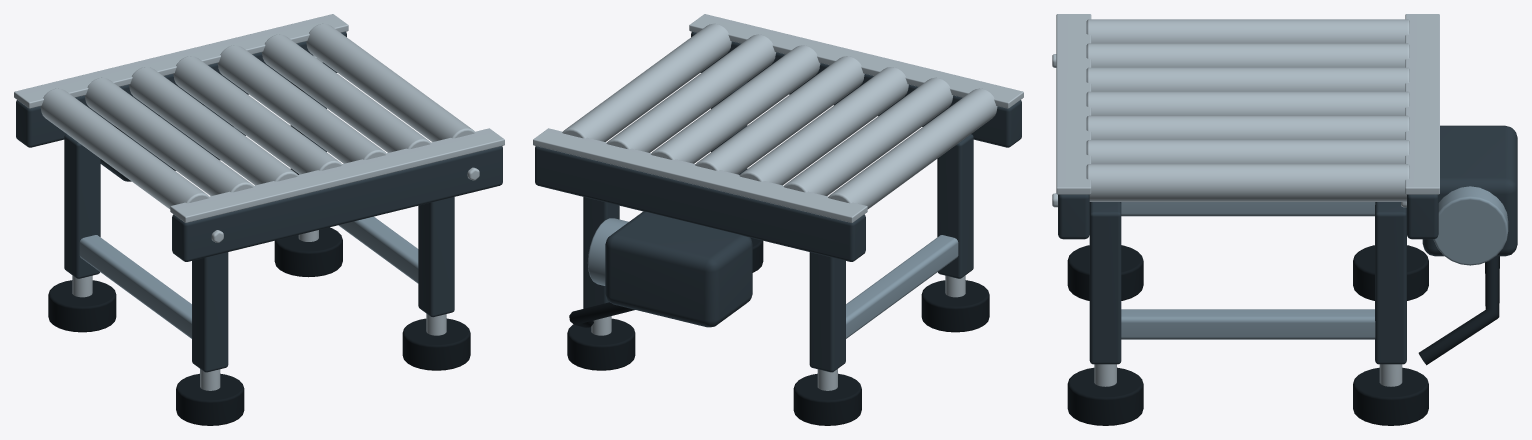
The model's file is roller-conveyor.glb.
The picture shows the model from 3 angles, left to right: view 1: azimuth 30°, elevation 25°; view 2: azimuth 150°, elevation 25°; view 3: azimuth 270°, elevation 25°; orthographic projection. The views are drawn at different scales.
Visible parts, largest first — view 1: roller_conveyor_Machined_Steel, roller_conveyor_Enamel_Graphite, roller_conveyor_Rubber_Seal, roller_conveyor_Brushed_Aluminium; view 2: roller_conveyor_Machined_Steel, roller_conveyor_Enamel_Graphite, roller_conveyor_Rubber_Seal, roller_conveyor_Brushed_Aluminium; view 3: roller_conveyor_Machined_Steel, roller_conveyor_Enamel_Graphite, roller_conveyor_Brushed_Aluminium, roller_conveyor_Rubber_Seal.
Part boxes in pixels (box(x1,y1,x2,y2)): roller_conveyor_Machined_Steel: box(14, 14, 504, 390); roller_conveyor_Enamel_Graphite: box(16, 31, 502, 372); roller_conveyor_Rubber_Seal: box(48, 227, 470, 425); roller_conveyor_Brushed_Aluminium: box(79, 127, 418, 338); roller_conveyor_Machined_Steel: box(533, 14, 1023, 390); roller_conveyor_Enamel_Graphite: box(535, 31, 1021, 372); roller_conveyor_Rubber_Seal: box(567, 237, 989, 425); roller_conveyor_Brushed_Aluminium: box(588, 218, 958, 338); roller_conveyor_Machined_Steel: box(1052, 14, 1439, 386); roller_conveyor_Enamel_Graphite: box(1058, 125, 1517, 364); roller_conveyor_Brushed_Aluminium: box(1121, 186, 1508, 339); roller_conveyor_Rubber_Seal: box(1067, 245, 1499, 425).
Size of the model in its own units: 1.3 by 0.89 by 1.47.
